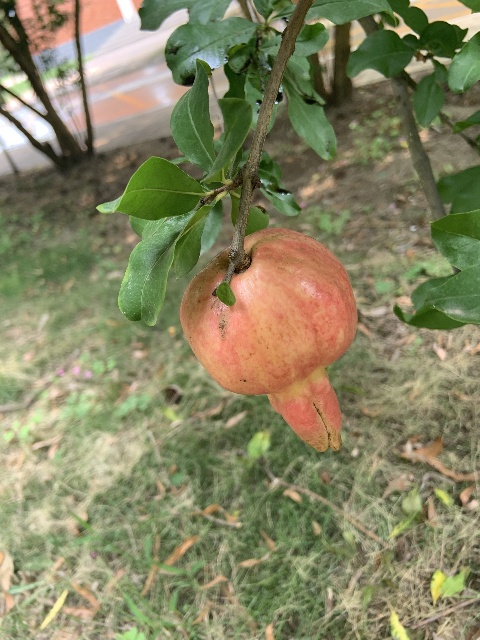ripe: (180, 227, 357, 450)
